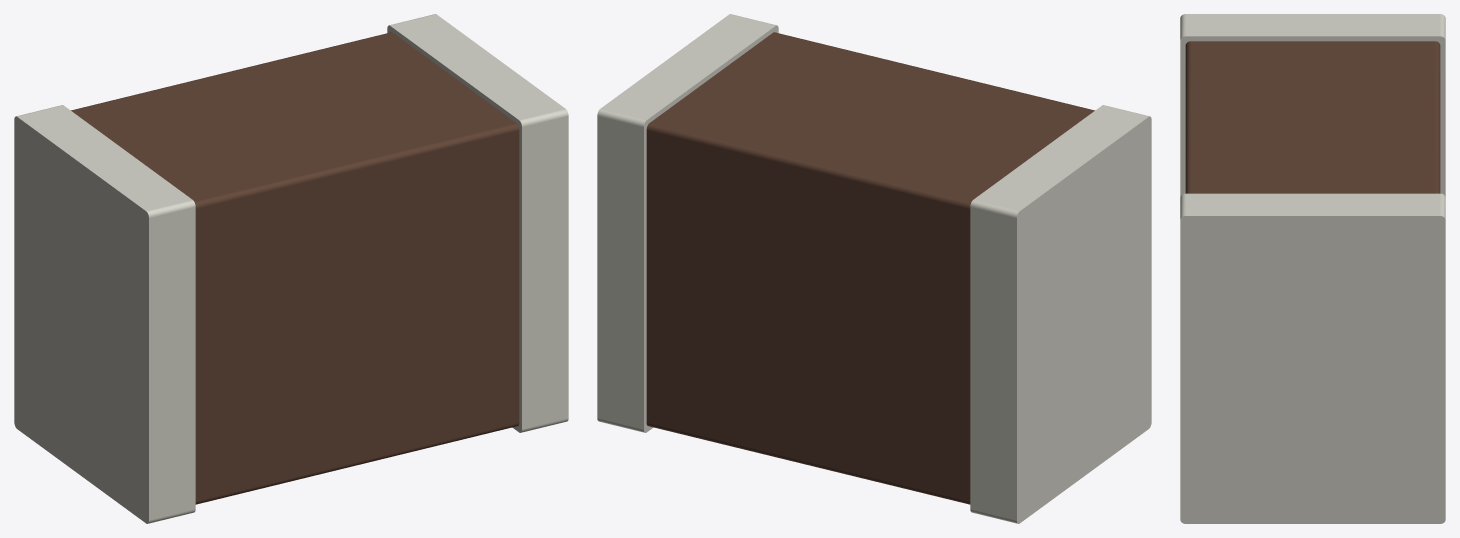
File: Capacitor_SMD_C_1812_4532Metric.glb
The picture shows the model from 3 angles, left to right: view 1: azimuth 30°, elevation 25°; view 2: azimuth 150°, elevation 25°; view 3: azimuth 270°, elevation 25°; orthographic projection.
Bounding box in the file's own units: 4.5 × 3.2 × 2.5.
